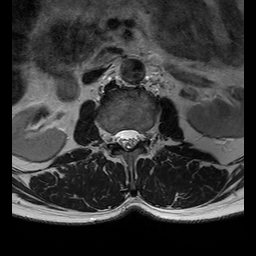CCS_normal: (124, 120, 132, 157)
LFS_normal: (140, 123, 148, 148)
LLS_normal: (132, 121, 140, 153)
RFS_normal: (106, 122, 115, 153)
RLS_normal: (115, 123, 124, 152)
